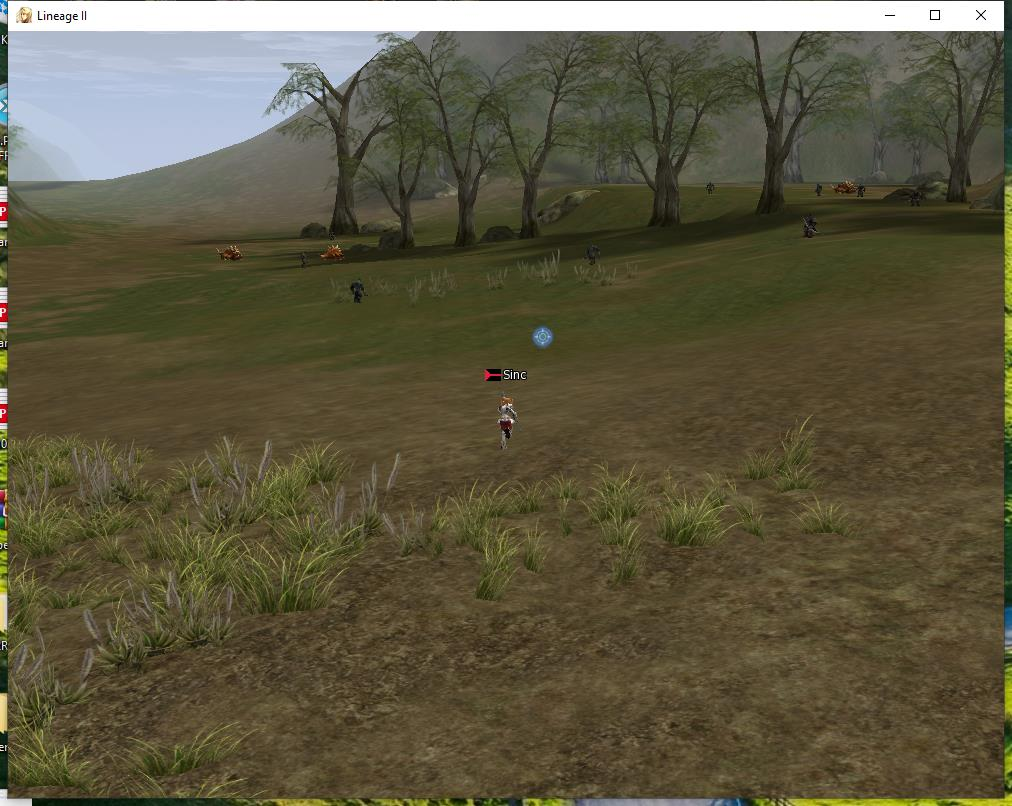monster: (323, 235, 344, 263), (836, 181, 870, 195), (804, 210, 819, 239), (346, 279, 364, 301), (220, 240, 241, 258), (587, 244, 603, 264), (296, 248, 310, 268), (819, 185, 826, 198)
